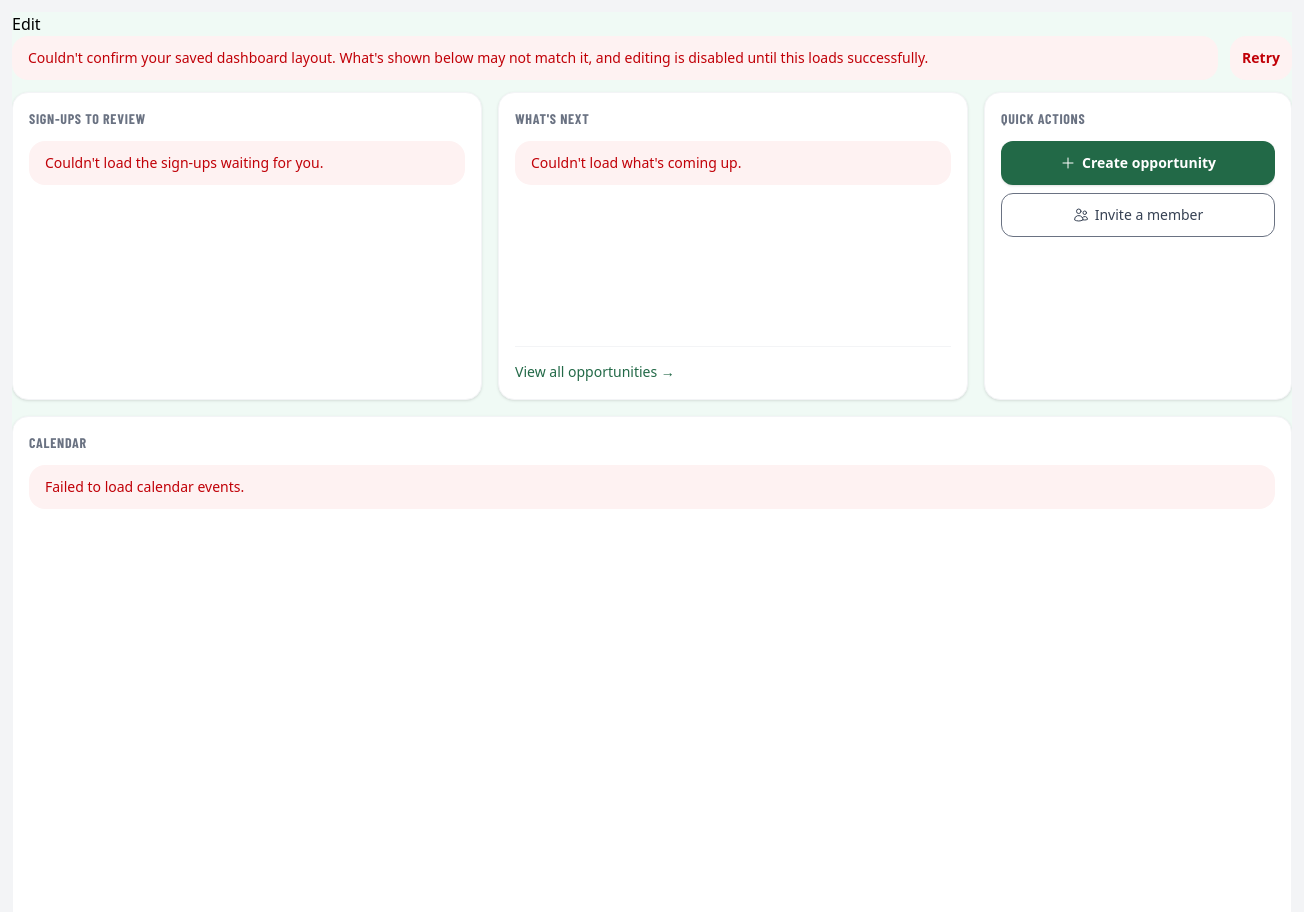
Test: OrgDashboardPage when the saved layout fails to load › recovers once the retry succeeds
The image size is (1304, 912).
Expected: the message with id "dashboard-layout-load-error" is shown, [12,36,1218,80]
What coordinates should you click on to do the following:
click the button with test id "dashboard-layout-retry"
I would click on:
 (1261, 58)
Its box is [1230,36,1292,80].
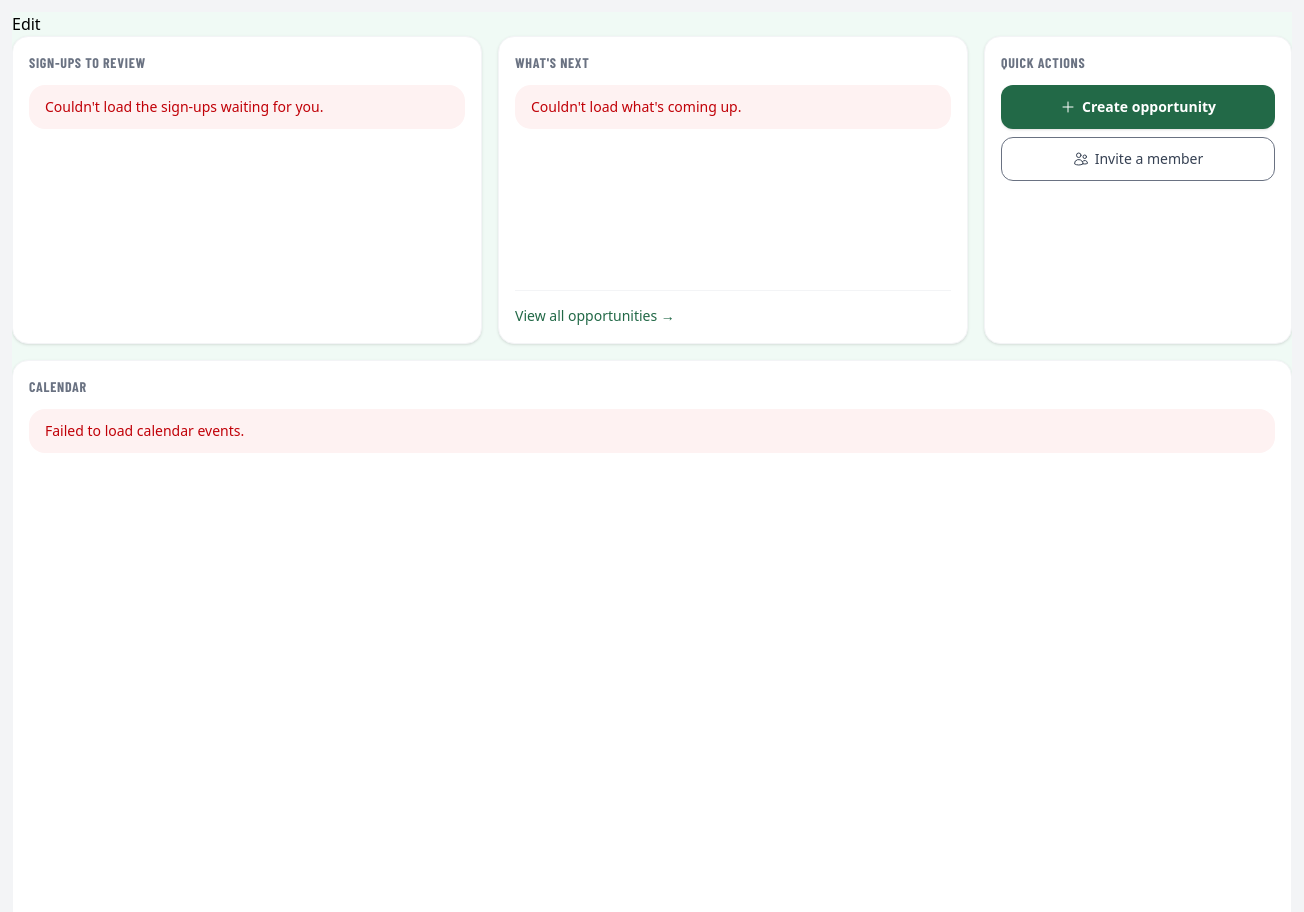
Expected: the button with test id "quick-action-edit" is enabled, [12,12,41,36]
Result: the message with id "dashboard-layout-load-error" is gone
